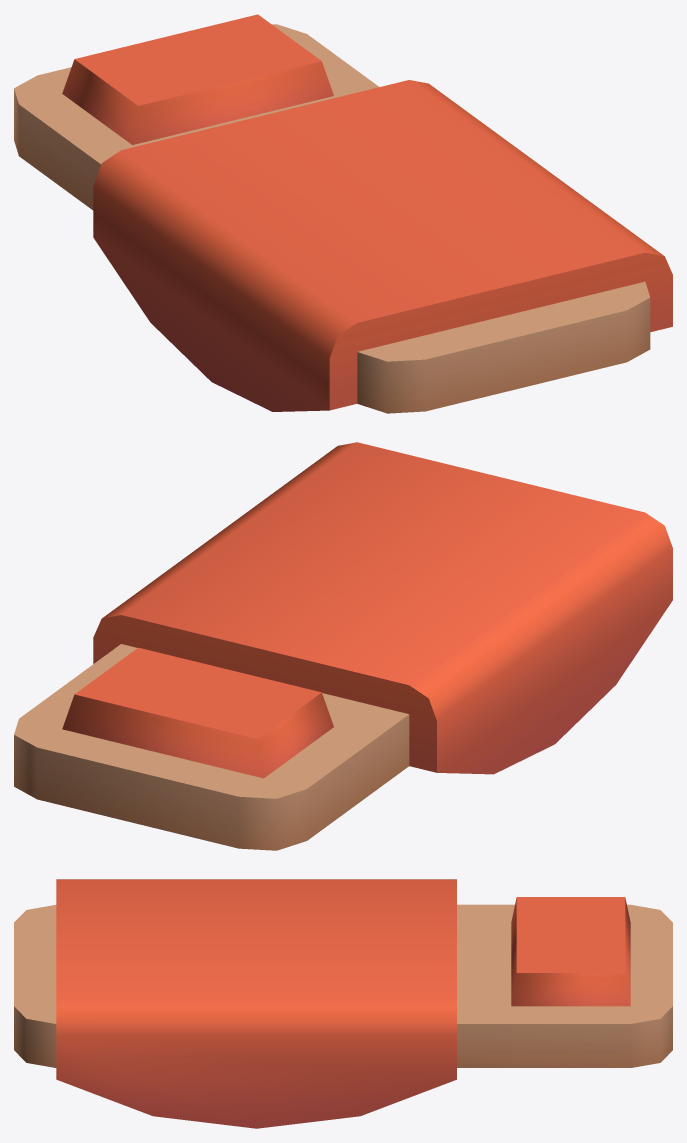
The model's file is bedroll.glb.
3 views of the same model, one above another, from view 1: azimuth 30°, elevation 25°; view 2: azimuth 150°, elevation 25°; view 3: azimuth 270°, elevation 25° (orthographic). The views are drawn at different scales.
Parts seen in each view (by area): view 1: bedroll; view 2: bedroll; view 3: bedroll.
Part boxes in pixels (x1=…): bedroll: x1=14, y1=14, x2=672, y2=413; bedroll: x1=14, y1=442, x2=672, y2=850; bedroll: x1=14, y1=879, x2=672, y2=1128.
Size of the model in its own units: 0.3104 by 0.1248 by 0.6076.
1 material, 1 textured.
